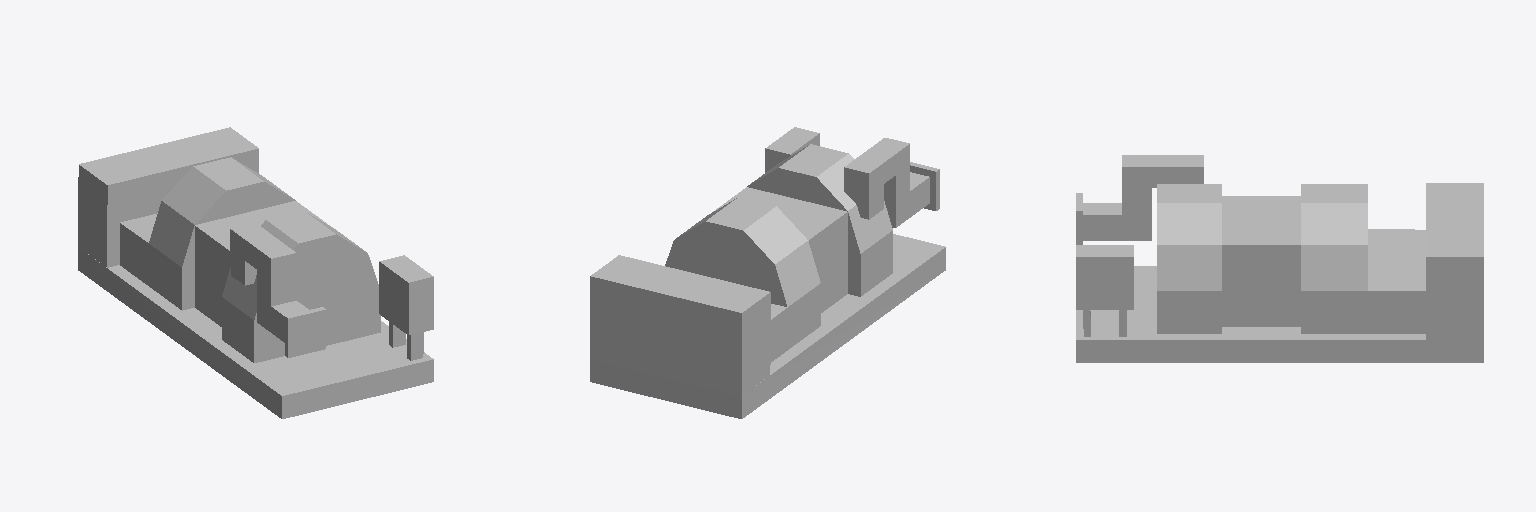
The model's file is steam_turbine.obj.
The picture shows the model from 3 angles: view 1: azimuth 30°, elevation 25°; view 2: azimuth 150°, elevation 25°; view 3: azimuth 270°, elevation 25°; orthographic projection.
Visible parts, largest first — view 1: base_1; view 2: base_1; view 3: base_1.
Boxes of the visible parts, x1=… form: base_1: x1=78, y1=127, x2=433, y2=418; base_1: x1=590, y1=127, x2=945, y2=418; base_1: x1=1076, y1=155, x2=1483, y2=362.
Size of the model in its own units: 3.01 by 2.65 by 7.